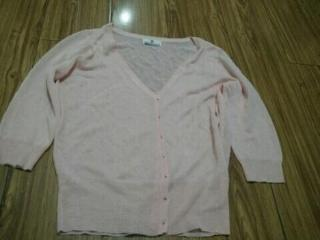long sleeve top: (0, 23, 285, 237)
